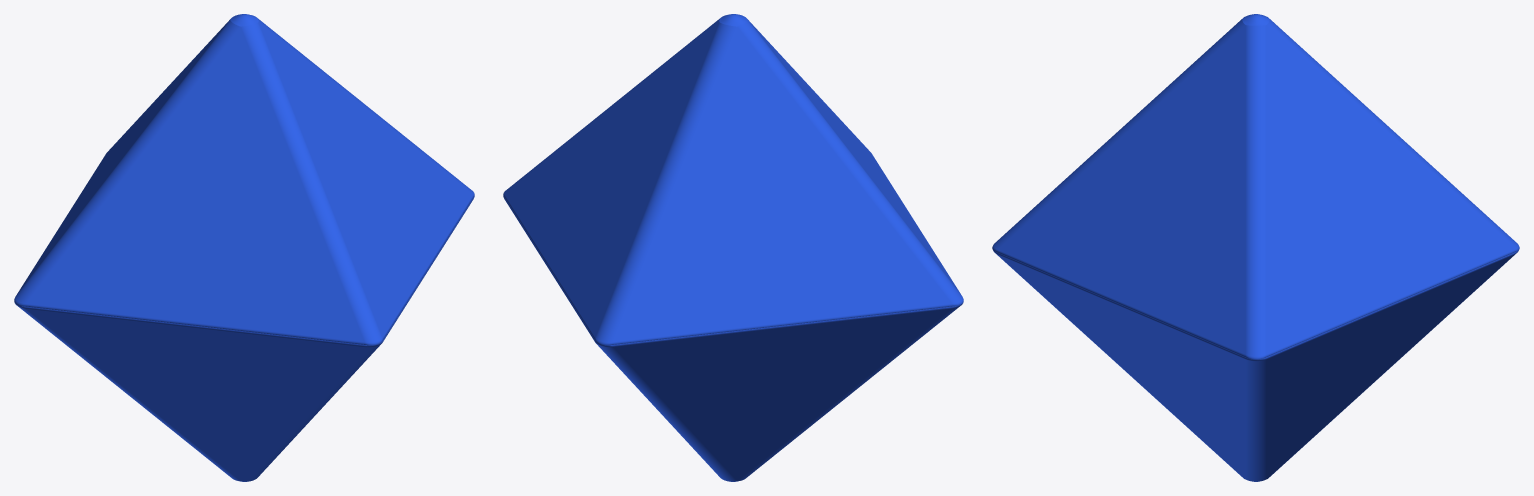
Rendered from Blorb.fbx.
3 views of the same model, side by side, from view 1: azimuth 30°, elevation 25°; view 2: azimuth 150°, elevation 25°; view 3: azimuth 270°, elevation 25° (orthographic).
Parts seen in each view (by area): view 1: Cone, Cone.001; view 2: Cone, Cone.001; view 3: Cone, Cone.001.
Part boxes in pixels (<box>): Cone: <box>14,14,474,345</box>; Cone.001: <box>14,196,474,481</box>; Cone: <box>503,14,963,345</box>; Cone.001: <box>503,196,963,481</box>; Cone: <box>992,14,1519,359</box>; Cone.001: <box>992,249,1519,481</box>.
Bounding box in the file's own units: 154 × 150 × 154.
